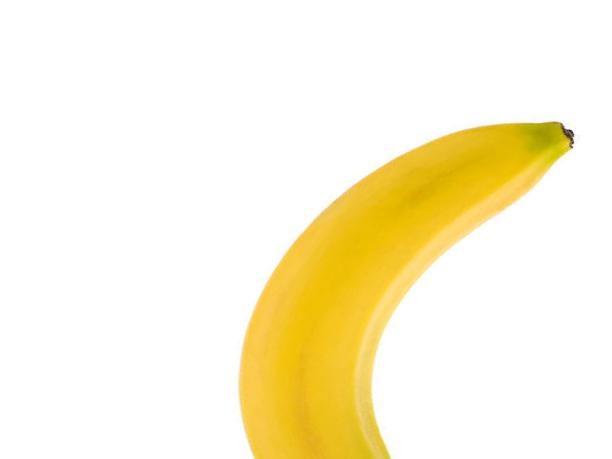banana: (236, 120, 577, 459)
